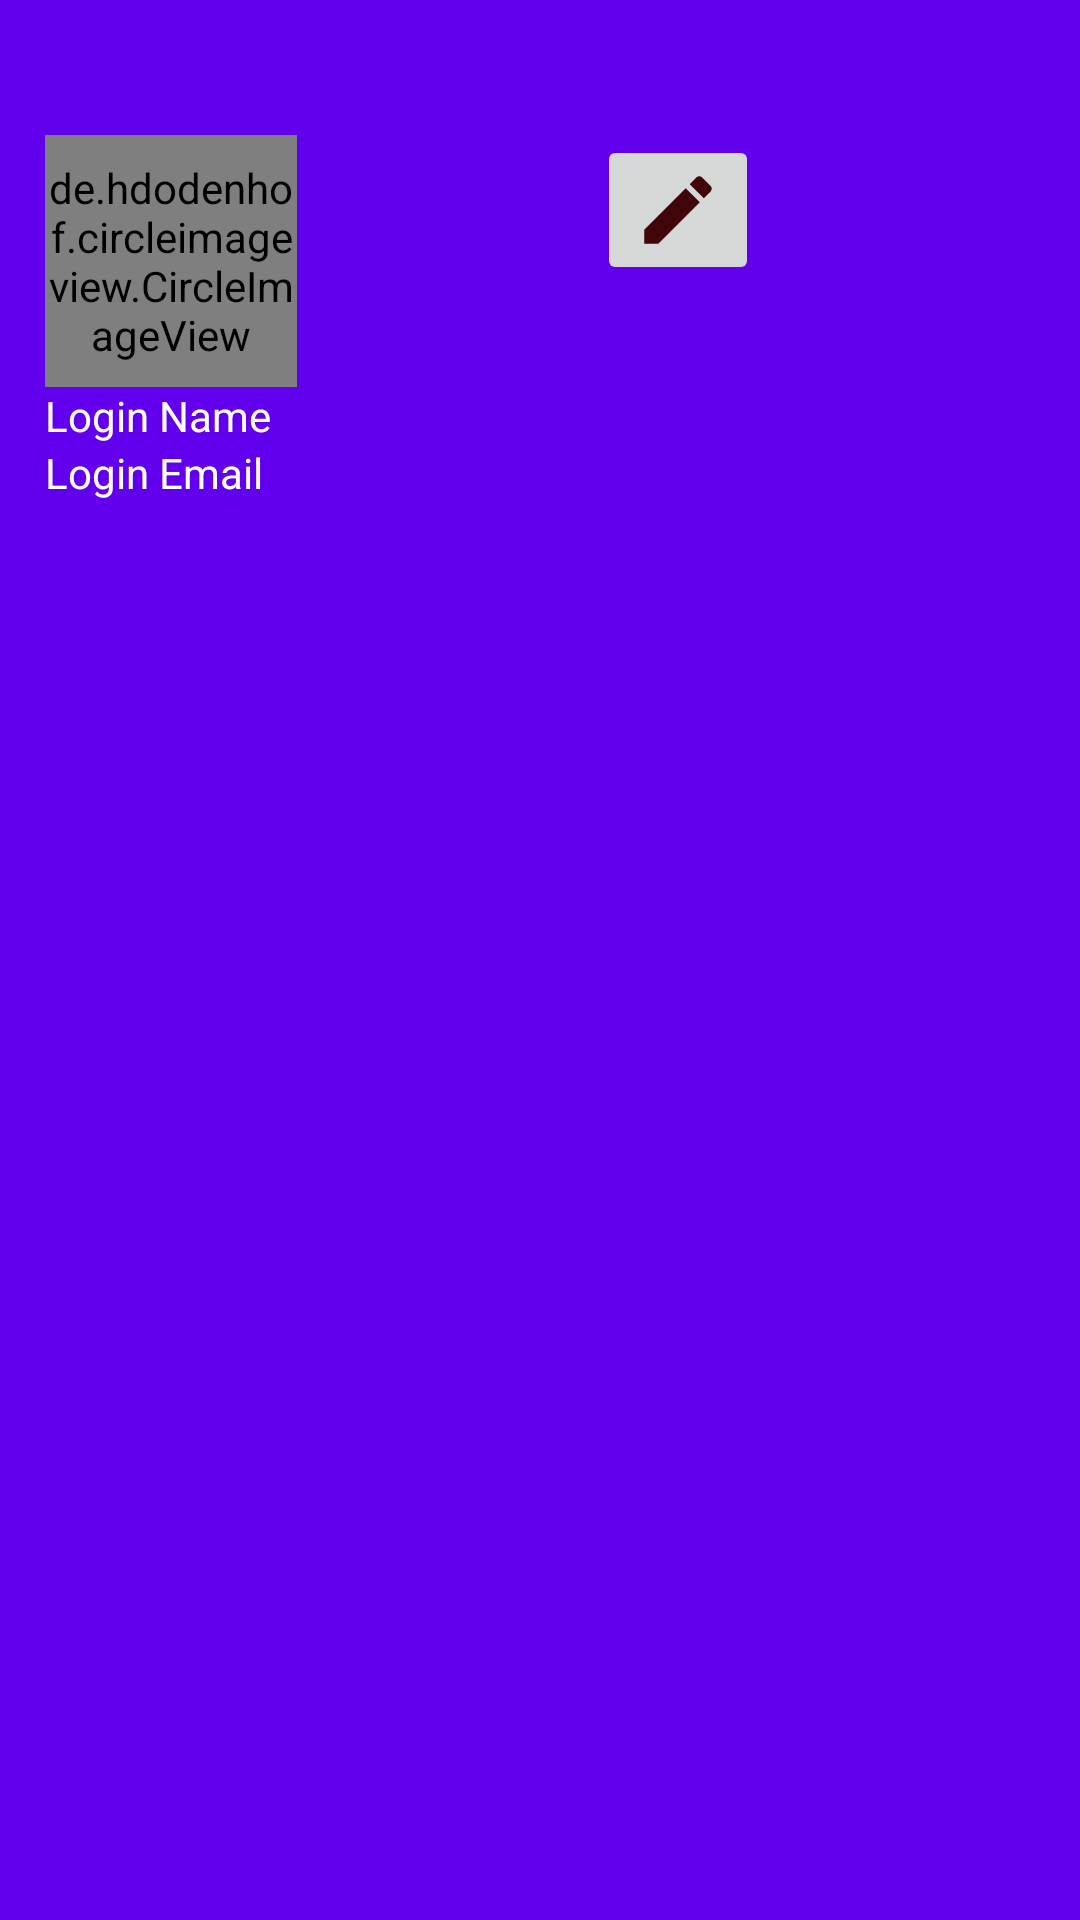

Point at icon controls on the screen. Image size 1080x1920, points as (x=x, y=y).
edit: (x=678, y=210)
